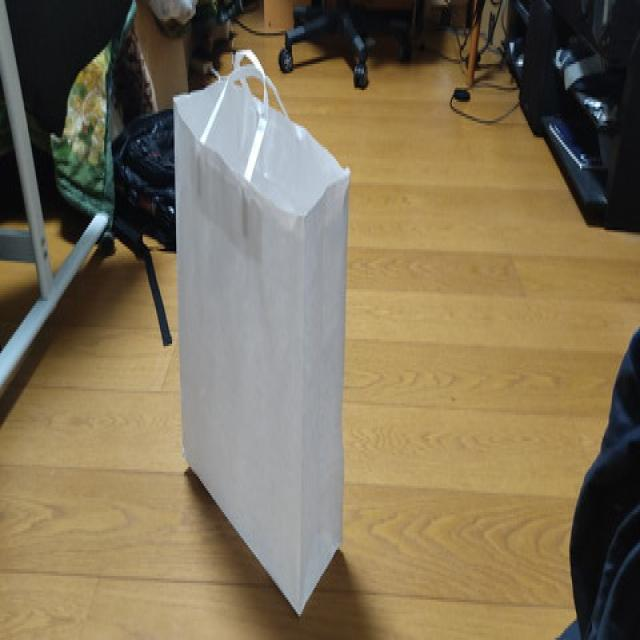paper bag: (170, 42, 349, 620)
